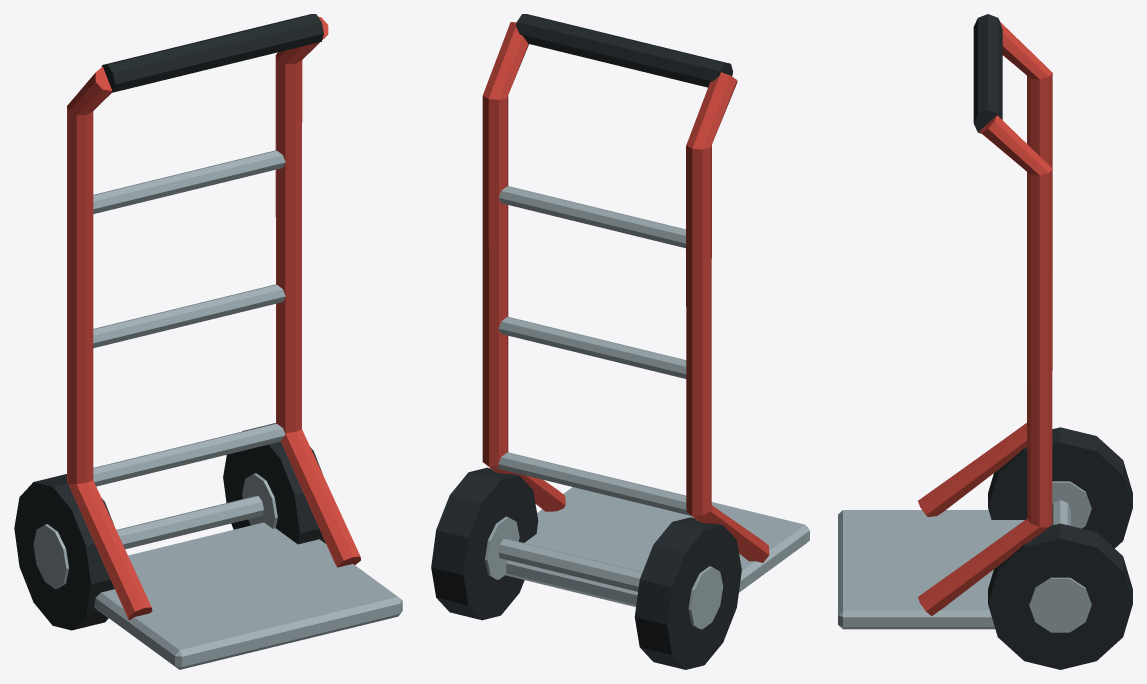
Rendered from Delivery_Hand_Truck.glb.
3 views of the same model, side by side, from view 1: azimuth 30°, elevation 25°; view 2: azimuth 150°, elevation 25°; view 3: azimuth 270°, elevation 25° (orthographic). The views are drawn at different scales.
Visible parts, largest first — view 1: Delivery_Hand_Truck; view 2: Delivery_Hand_Truck; view 3: Delivery_Hand_Truck.
Boxes of the visible parts, x1,y1,x2,y2 form: Delivery_Hand_Truck: (14, 14, 402, 669); Delivery_Hand_Truck: (431, 14, 809, 669); Delivery_Hand_Truck: (838, 14, 1132, 669).
Bounding box in the file's own units: 0.5218 × 1.18 × 0.57.
